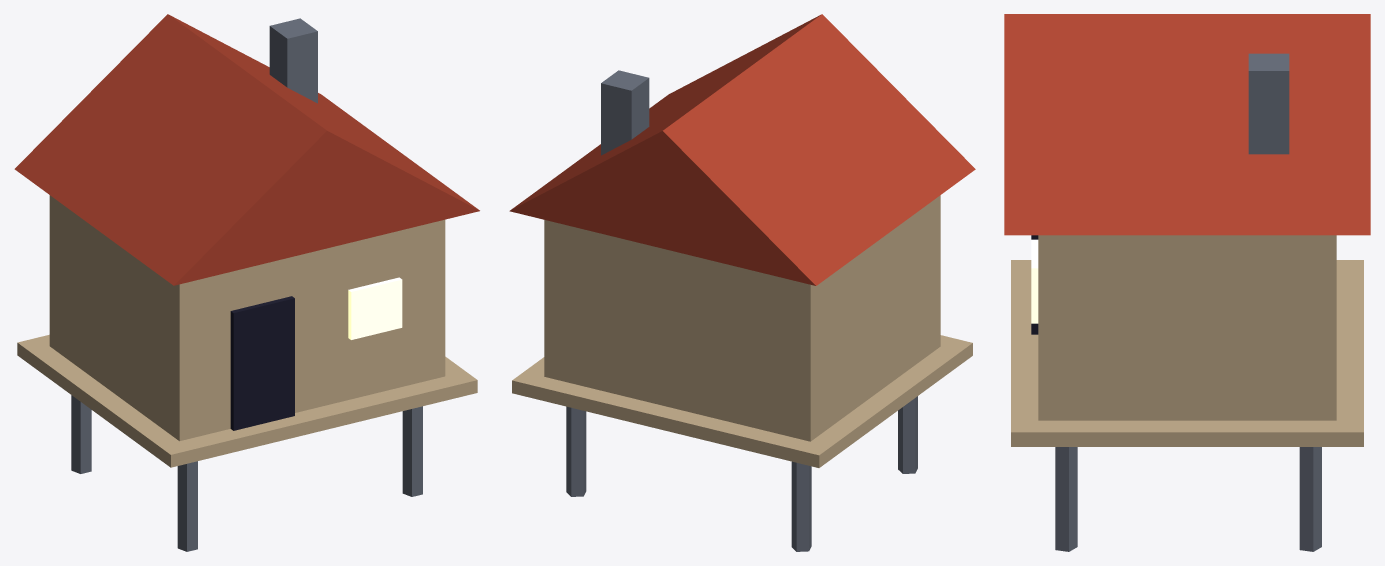
Rendered from stilt_house.glb.
3 views of the same model, side by side, from view 1: azimuth 30°, elevation 25°; view 2: azimuth 150°, elevation 25°; view 3: azimuth 270°, elevation 25° (orthographic). The views are drawn at different scales.
Parts seen in each view (by area): view 1: Roof, Walls, Deck, Door, Chimney, Window, Stilt.002, Stilt, Stilt.001; view 2: Roof, Walls, Deck, Chimney, Stilt.003, Stilt.001, Stilt; view 3: Roof, Walls, Deck, Chimney, Stilt.003, Stilt.002, Window.
Boxes of the visible parts, <box> form: Roof: <box>14,14,479,285</box>; Walls: <box>49,195,445,441</box>; Deck: <box>17,334,477,467</box>; Door: <box>230,296,294,430</box>; Chimney: <box>269,18,317,103</box>; Window: <box>348,277,402,339</box>; Stilt.002: <box>402,406,422,496</box>; Stilt: <box>177,461,197,551</box>; Stilt.001: <box>71,395,91,473</box>; Roof: <box>509,14,975,285</box>; Walls: <box>544,195,940,441</box>; Deck: <box>512,335,972,467</box>; Chimney: <box>601,70,649,155</box>; Stilt.003: <box>566,406,586,496</box>; Stilt.001: <box>791,461,811,551</box>; Stilt: <box>898,396,917,473</box>; Roof: <box>1004,14,1370,235</box>; Walls: <box>1038,235,1336,420</box>; Deck: <box>1011,260,1363,446</box>; Chimney: <box>1248,53,1289,154</box>; Stilt.003: <box>1299,447,1321,551</box>; Stilt.002: <box>1055,447,1077,551</box>; Window: <box>1031,239,1038,323</box>.
Size of the model in its own units: 3 by 3.82 by 2.7.
